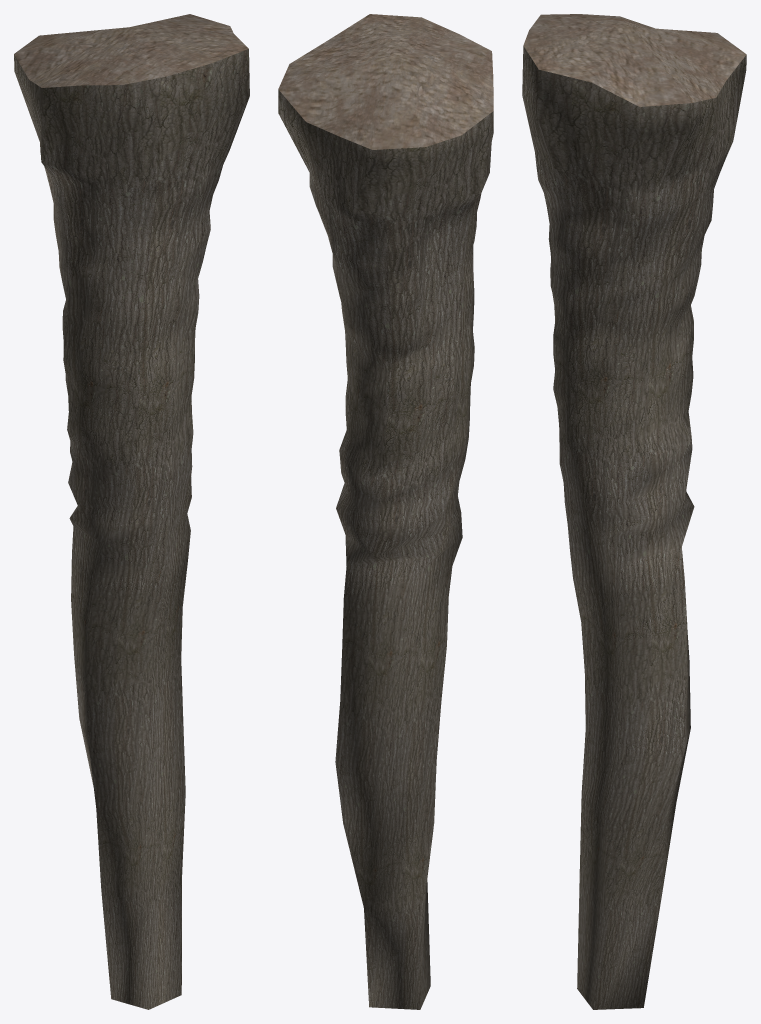
File: tree-as-club.glb
3 views of the same model, side by side, from view 1: azimuth 30°, elevation 25°; view 2: azimuth 150°, elevation 25°; view 3: azimuth 270°, elevation 25° (orthographic). The views are drawn at different scales.
Parts seen in each view (by area): view 1: WhiteOak_TreeAsClub; view 2: WhiteOak_TreeAsClub; view 3: WhiteOak_TreeAsClub.
Boxes of the visible parts, x1,y1,x2,y2 form: WhiteOak_TreeAsClub: (14, 14, 249, 1009); WhiteOak_TreeAsClub: (278, 14, 493, 1009); WhiteOak_TreeAsClub: (522, 14, 746, 1009).
Size of the model in its own units: 2.6 by 12.09 by 2.54.
Materials: 3 (2 with a texture image).
